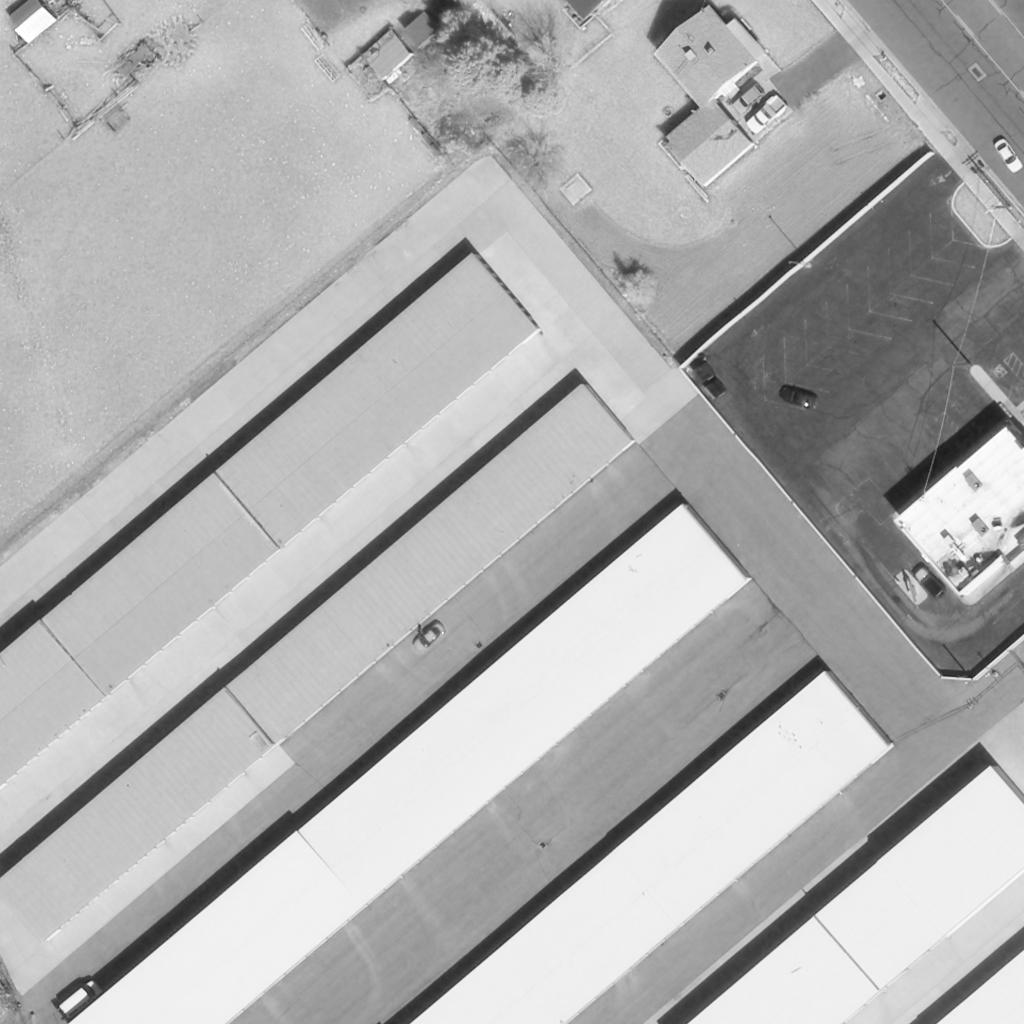vehicle: (58, 979, 104, 1021), (745, 95, 787, 135), (411, 619, 447, 655), (912, 565, 946, 603), (777, 384, 819, 412), (991, 138, 1023, 174), (732, 82, 764, 114)
